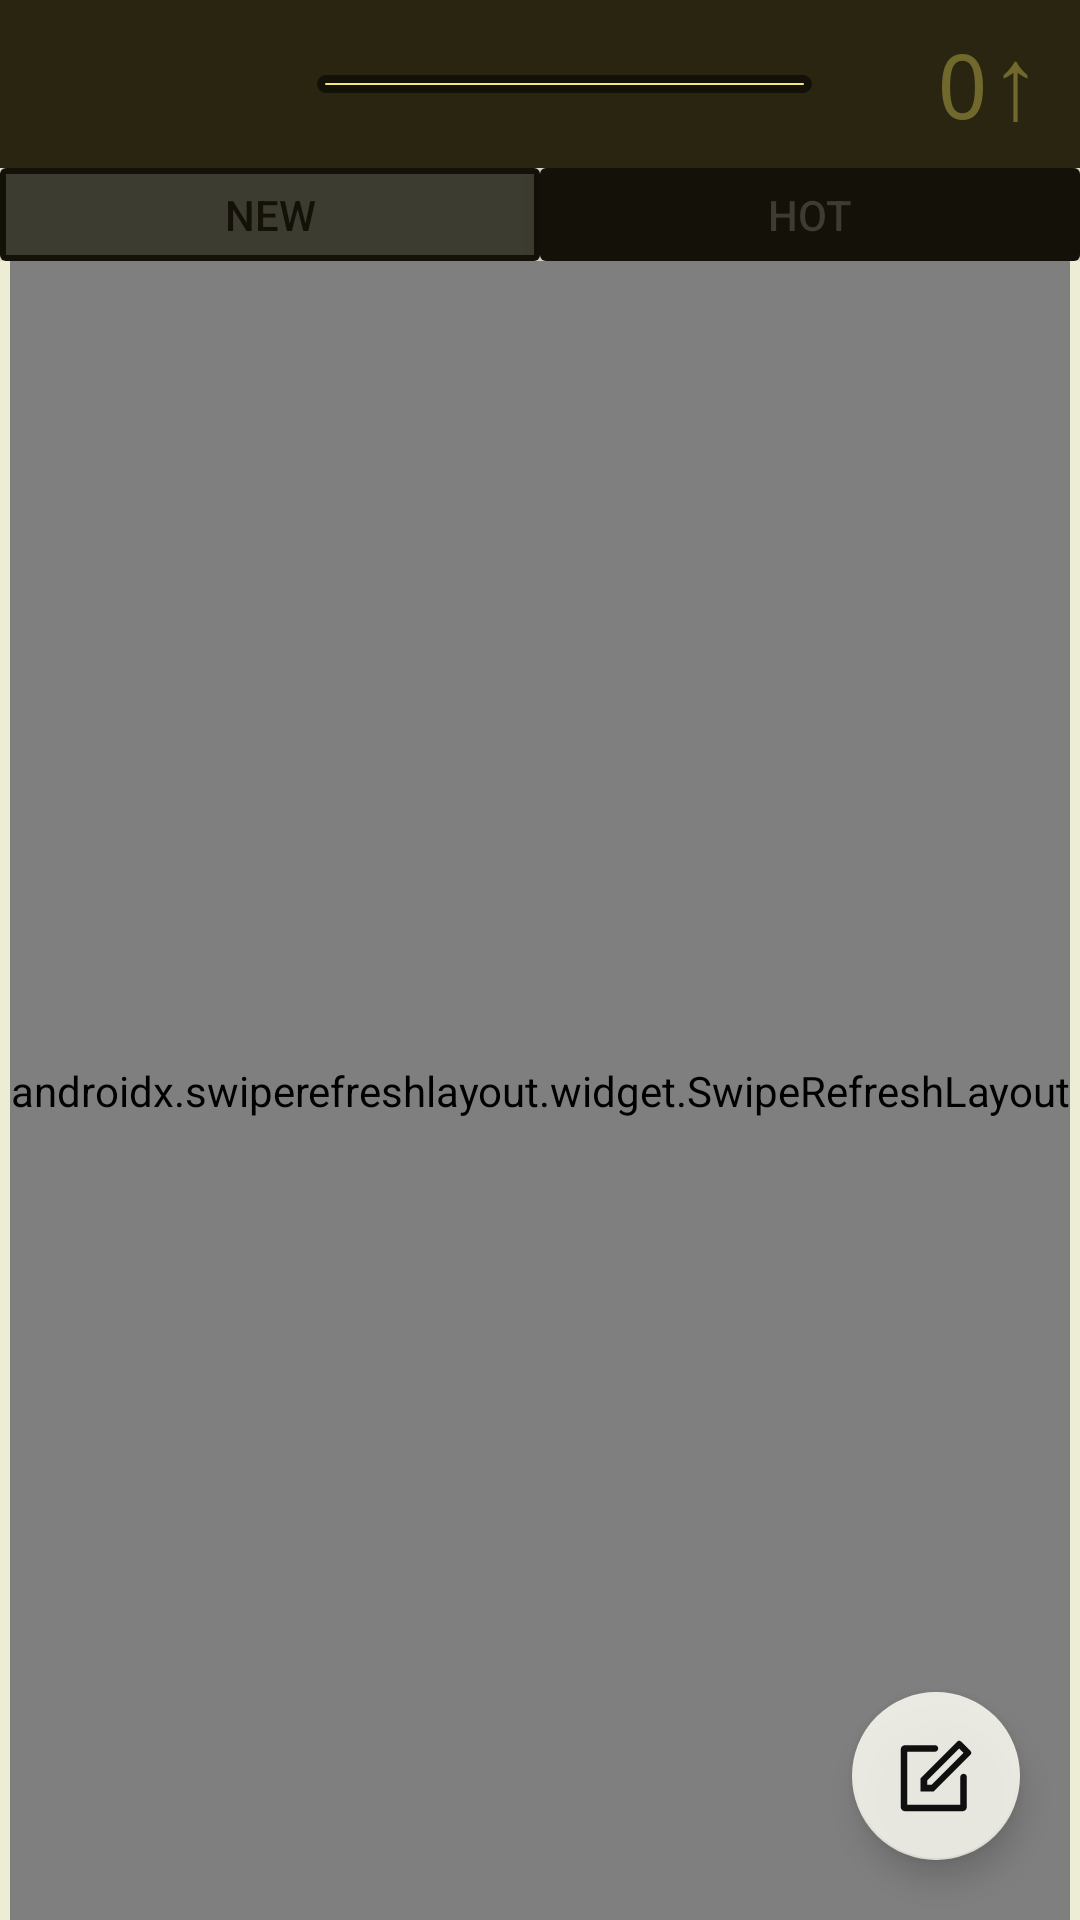

Icon click points for this 1080 x 1920 phone screenshot, format (x,y):
post: (936,1776)
